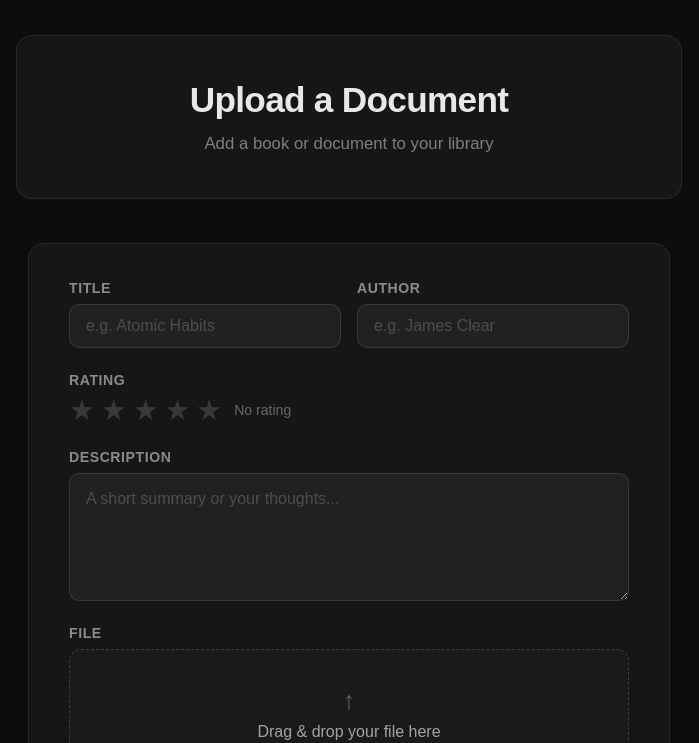
Test: Upload component › disables the submit button while uploading
Type "Hang Book" into the field with placeholder "e.g. Atomic Habits".
click(205, 326); type("Hang Book")  # box [69,304,341,348]
(page scrolled)
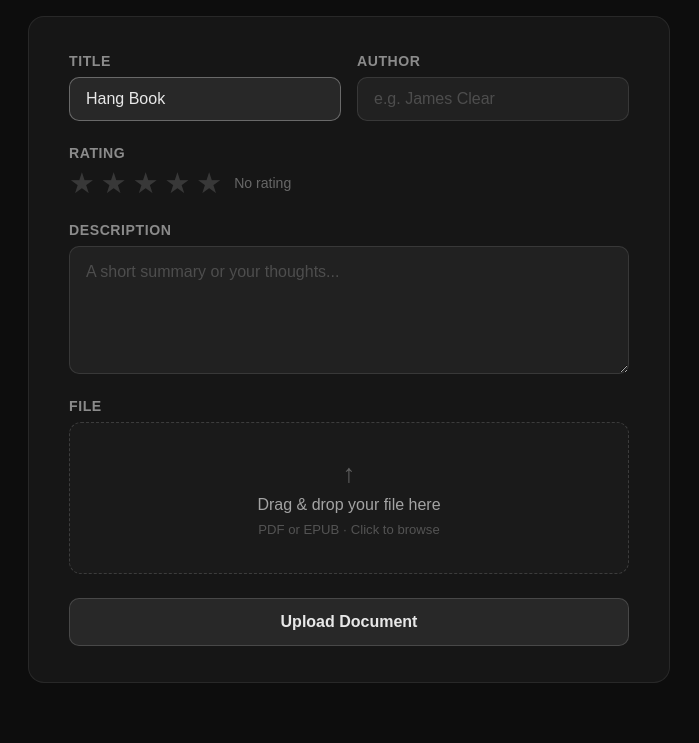
Click the button "Upload Document".
click(349, 622)  # box [69,598,629,646]
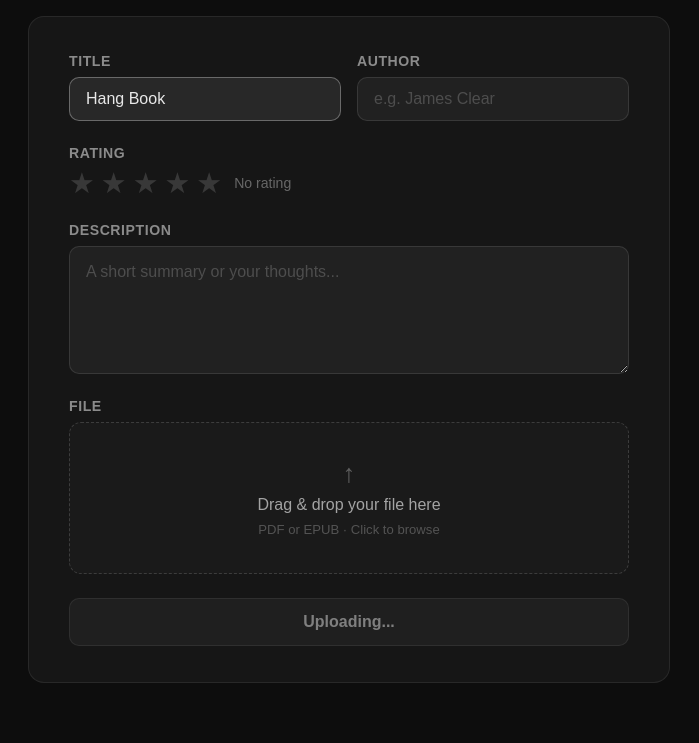
Expected: the button "Uploading..." is disabled, [69,598,629,646]
